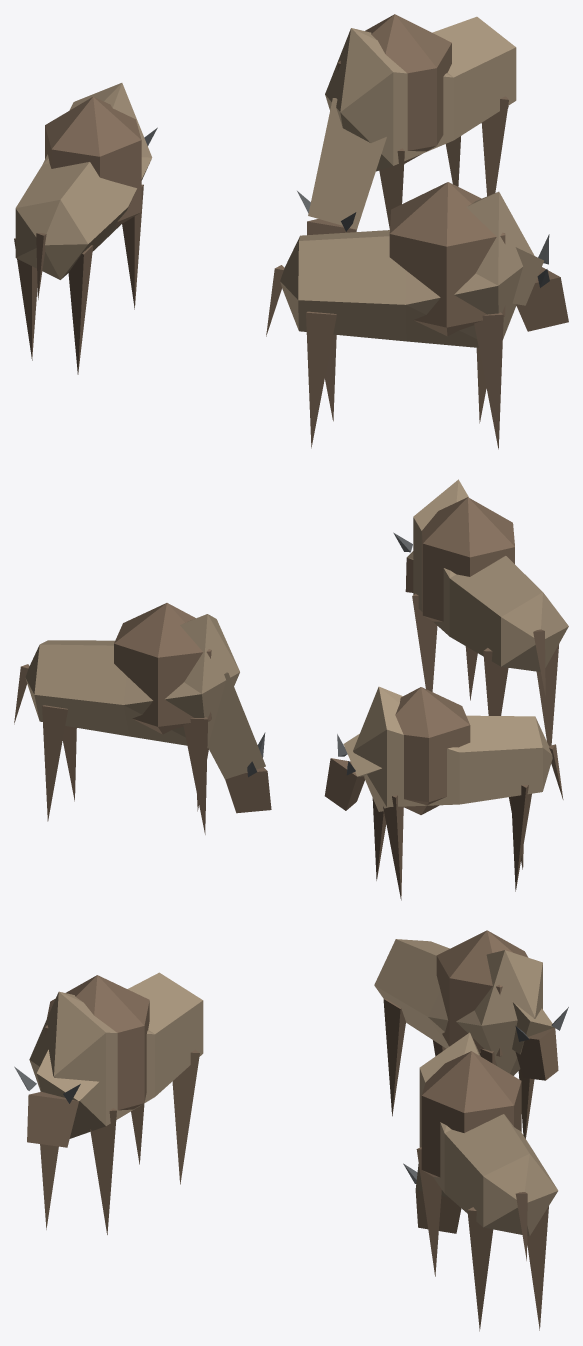
File: bison.glb
3 renders of one model, top to bottom at view 1: azimuth 30°, elevation 25°; view 2: azimuth 150°, elevation 25°; view 3: azimuth 270°, elevation 25°, orthographic. The views are drawn at different scales.
Visible parts, largest first — view 1: LOD0; view 2: LOD0; view 3: LOD0.
Part boxes in pixels (x1,y1,x2,y2): LOD0: [14, 14, 568, 449]; LOD0: [14, 479, 568, 900]; LOD0: [14, 930, 568, 1331].
Size of what is drawn, in the model's own units: 0.8124 by 0.3646 by 0.7505.
